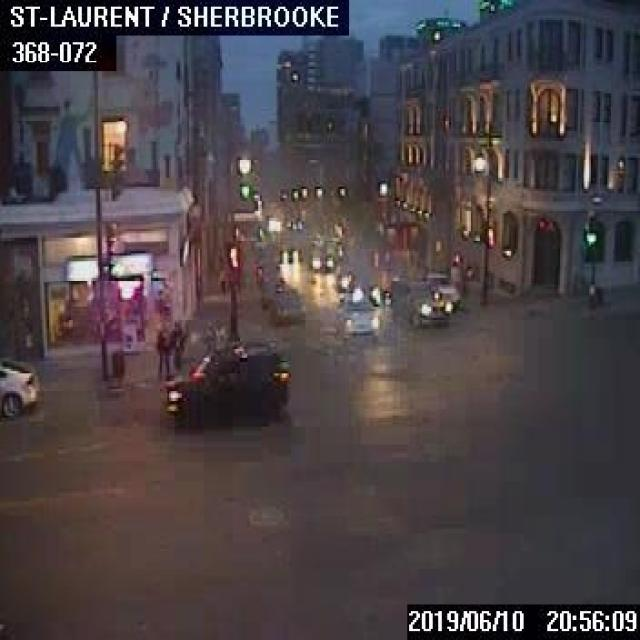pedestrian: (170, 320, 185, 368), (154, 329, 168, 375), (217, 268, 226, 296)
vehicle: (158, 342, 291, 424), (392, 276, 451, 326), (334, 287, 378, 336), (0, 356, 35, 414), (267, 284, 304, 322), (425, 271, 458, 307), (342, 274, 378, 302), (308, 245, 332, 271), (278, 243, 300, 262)
